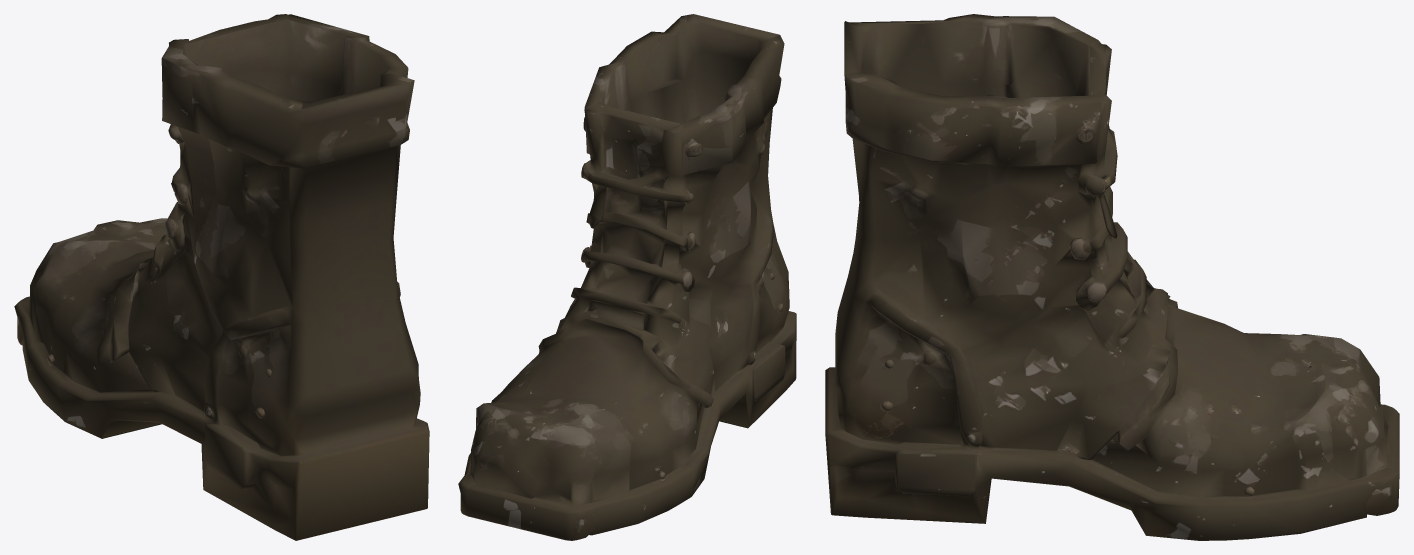
Rendered from 8889e280-3579-474c-9b56-4279cacf51ca-pbr_model.glb.
3 renders of one model, left to right at view 1: azimuth 30°, elevation 25°; view 2: azimuth 150°, elevation 25°; view 3: azimuth 270°, elevation 25°, orthographic. The views are drawn at different scales.
Parts seen in each view (by area): view 1: tripo_node_8889e280-3579-474c-9b56-4279cacf51ca; view 2: tripo_node_8889e280-3579-474c-9b56-4279cacf51ca; view 3: tripo_node_8889e280-3579-474c-9b56-4279cacf51ca.
Part boxes in pixels (box(x1,y1,x2,y2)): tripo_node_8889e280-3579-474c-9b56-4279cacf51ca: box(14, 14, 429, 540); tripo_node_8889e280-3579-474c-9b56-4279cacf51ca: box(458, 14, 796, 540); tripo_node_8889e280-3579-474c-9b56-4279cacf51ca: box(825, 14, 1399, 540).
Bounding box in the file's own units: 0.5049 × 0.8356 × 1.
Materials: 1 (1 with a texture image).
